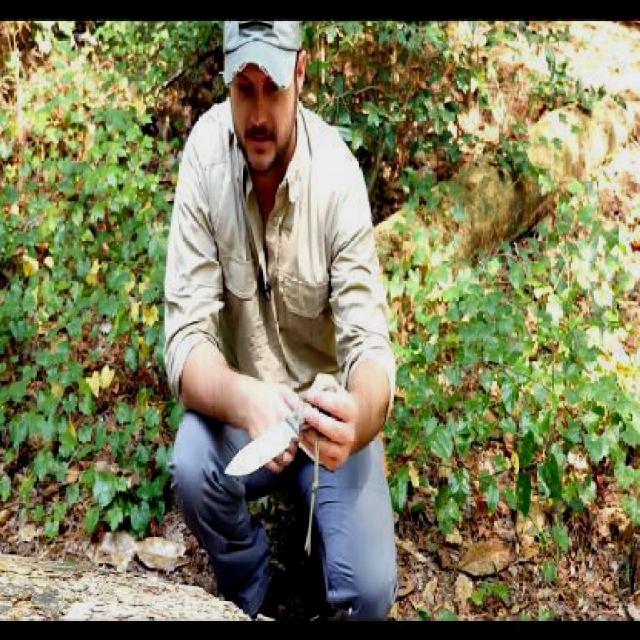knife: (218, 371, 348, 483)
